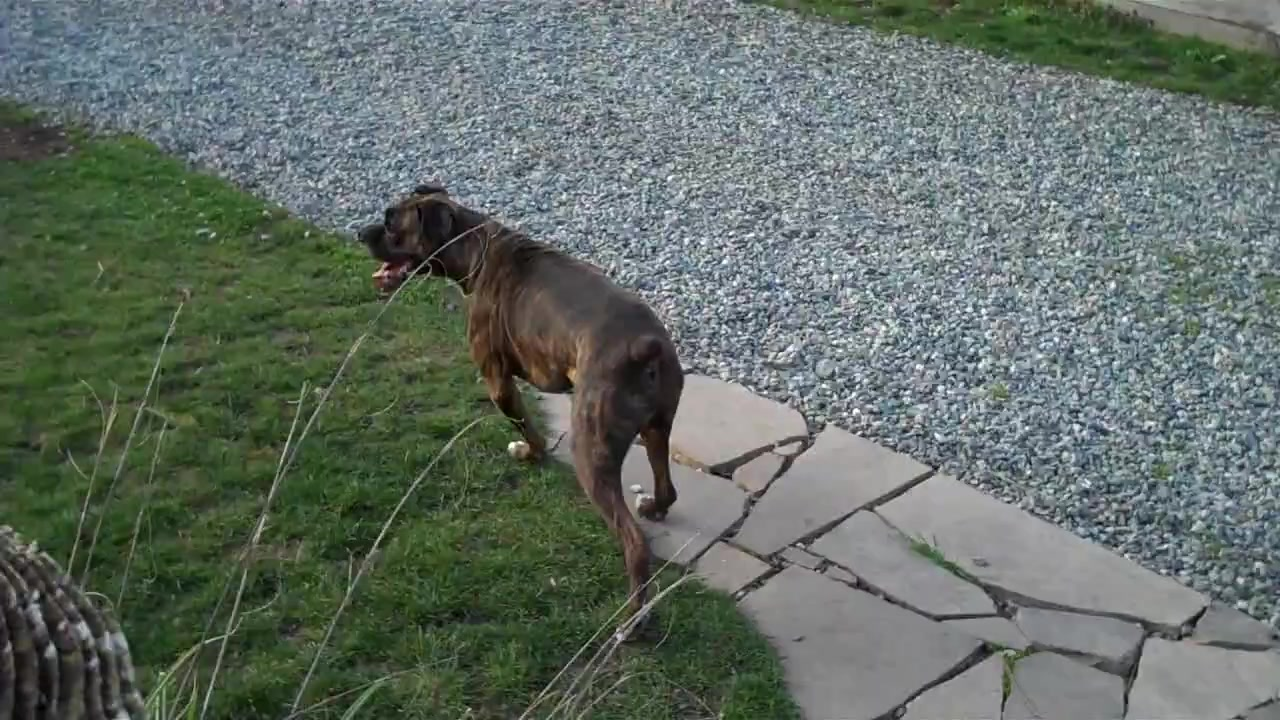dog: (355, 182, 682, 639)
